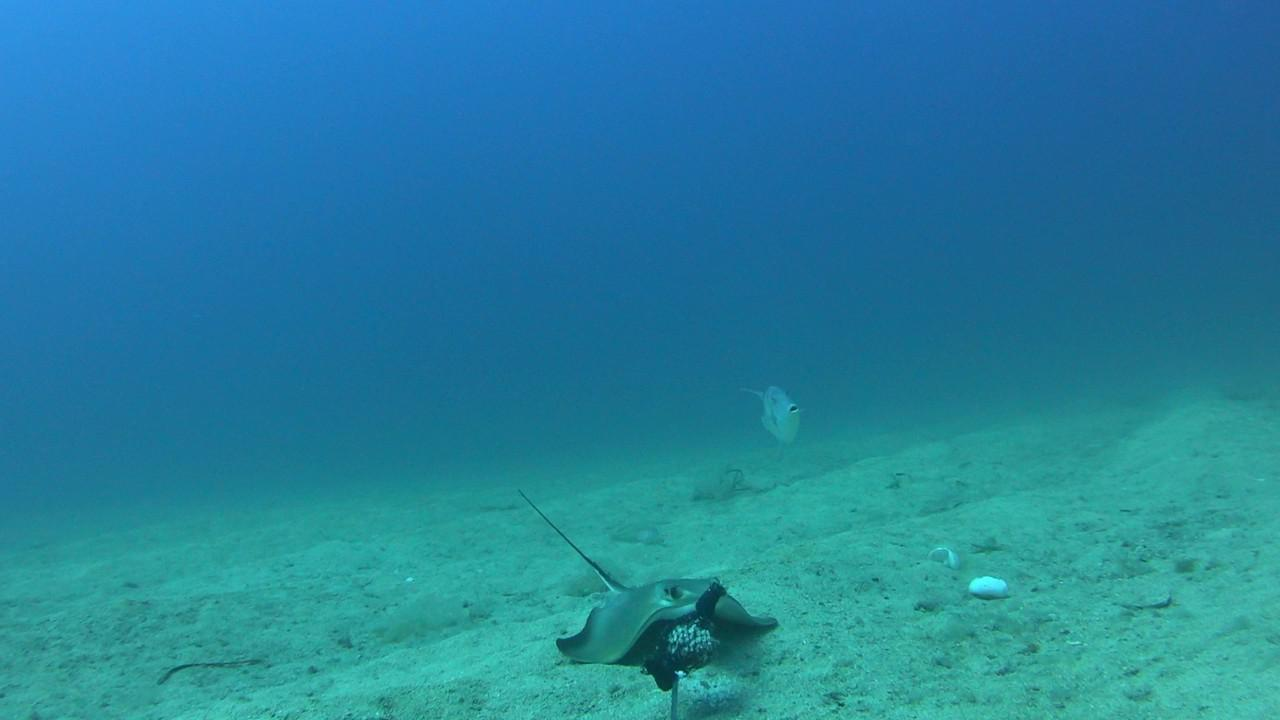balistes: (737, 378, 806, 460)
myliobatis: (492, 472, 785, 658)
